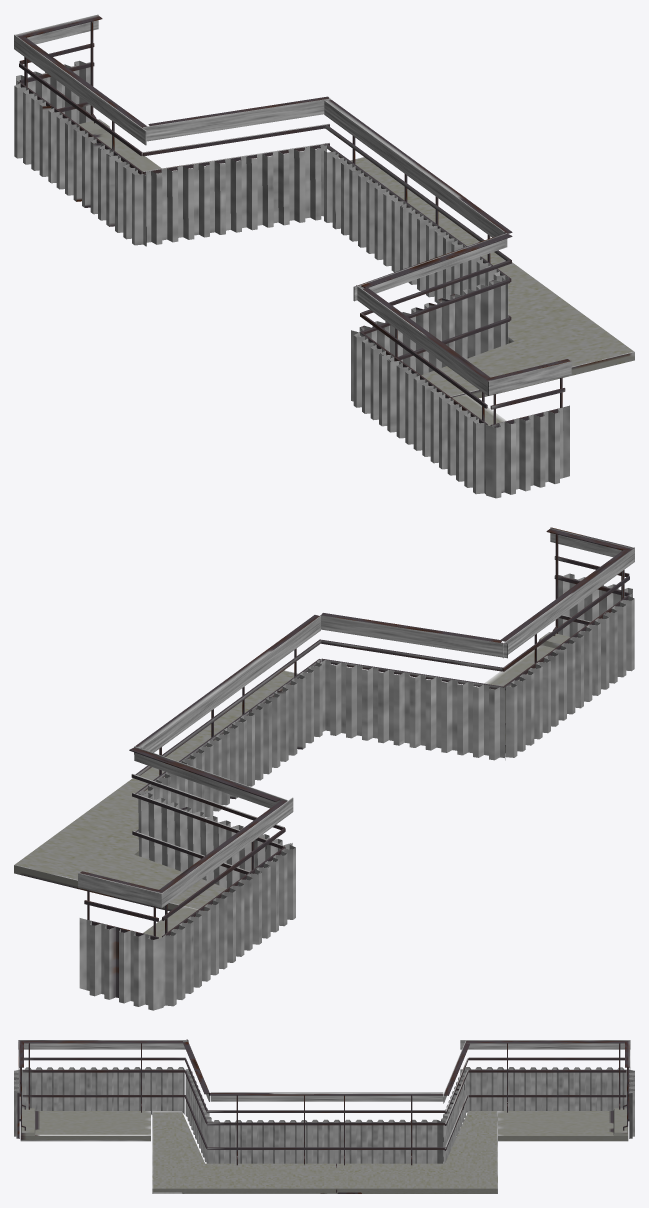
File: Balkon W.fbx
3 renders of one model, top to bottom at view 1: azimuth 30°, elevation 25°; view 2: azimuth 150°, elevation 25°; view 3: azimuth 270°, elevation 25°, orthographic. The views are drawn at different scales.
Visible parts, largest first — view 1: face.038, Balkon_bottom.014, face.042, face.036, face.040, face.037, face.033, parapet.026, face.039, face.035, parapet.029, face.034 (+12 smaller); view 2: face.033, Balkon_bottom.016, face.040, face.036, face.041, face.034, face.038, face.042, parapet.026, face.035, parapet.025, face.039 (+13 smaller); view 3: Balkon_bottom.014, Balkon_bottom.016, face.034, face.036, face.040, Balkon_bottom.013, Balkon_bottom.015, face.042, parapet.026, parapet.027, parapet.030, face.035 (+16 smaller).
Part boxes in pixels (box(x1,y1,x2,y2)): face.038: box(145, 145, 326, 245); Balkon_bottom.014: box(420, 252, 634, 398); face.042: box(324, 146, 431, 290); face.036: box(380, 350, 487, 494); face.040: box(14, 81, 118, 214); face.037: box(486, 405, 569, 498); face.033: box(351, 277, 505, 401); parapet.026: box(324, 99, 512, 237); face.039: box(98, 143, 146, 246); face.035: box(353, 332, 401, 432); parapet.029: box(143, 96, 330, 141); face.034: box(401, 203, 508, 344); face.033: box(320, 660, 505, 760); Balkon_bottom.016: box(14, 775, 229, 911); face.040: box(162, 863, 269, 1006); face.036: box(530, 594, 634, 726); face.041: box(79, 918, 163, 1010); face.034: box(220, 660, 322, 786); face.038: box(138, 793, 290, 888); face.042: box(139, 715, 246, 817); parapet.026: box(135, 615, 320, 752); face.035: box(505, 656, 550, 757); parapet.025: box(320, 613, 507, 658); face.039: box(247, 843, 295, 944); Balkon_bottom.014: box(152, 1111, 336, 1193); Balkon_bottom.016: box(337, 1111, 497, 1193); face.034: box(209, 1120, 340, 1163); face.036: box(22, 1067, 151, 1114); face.040: box(497, 1067, 626, 1110); Balkon_bottom.013: box(20, 1108, 150, 1141); Balkon_bottom.015: box(498, 1108, 628, 1141); face.042: box(308, 1119, 442, 1163); parapet.026: box(209, 1092, 443, 1101); parapet.027: box(18, 1040, 188, 1049); parapet.030: box(460, 1040, 630, 1049); face.035: box(130, 1067, 184, 1114).
Bounding box in the file's own units: 324 × 140 × 1049.
Materials: 4 (4 with a texture image).
